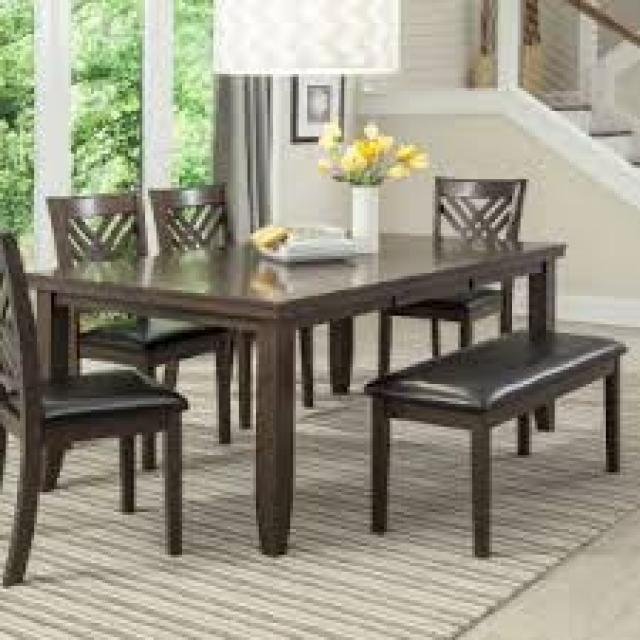Chair: (1, 226, 194, 579), (21, 178, 215, 430), (376, 165, 541, 391), (144, 173, 245, 259)
Lamp: (199, 0, 413, 83)
Sofa: (356, 309, 630, 544)
Table: (16, 232, 580, 551)
